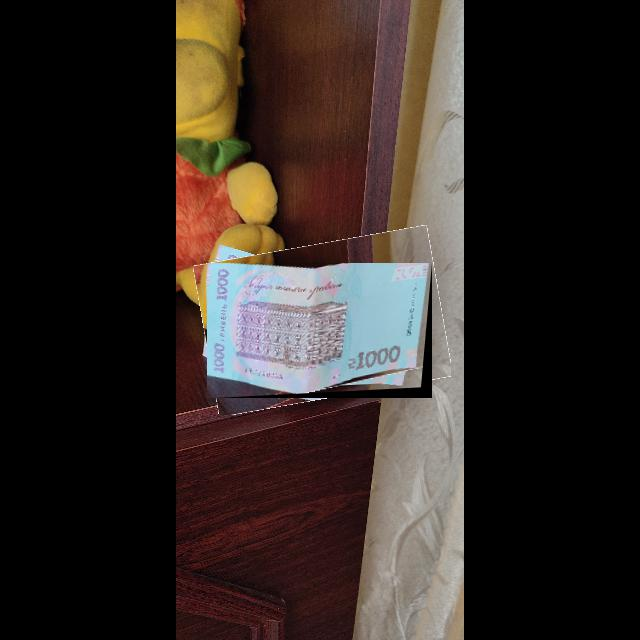1000uah: (207, 263, 433, 396)
